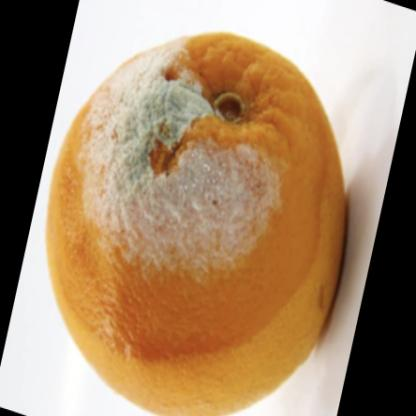rotten: (49, 34, 345, 416)
